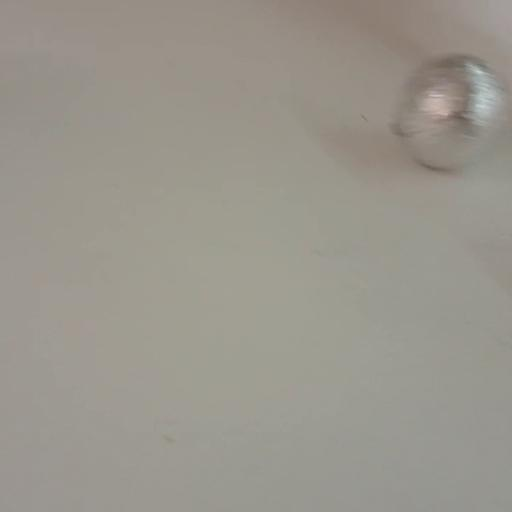alive: (387, 53, 510, 171)
